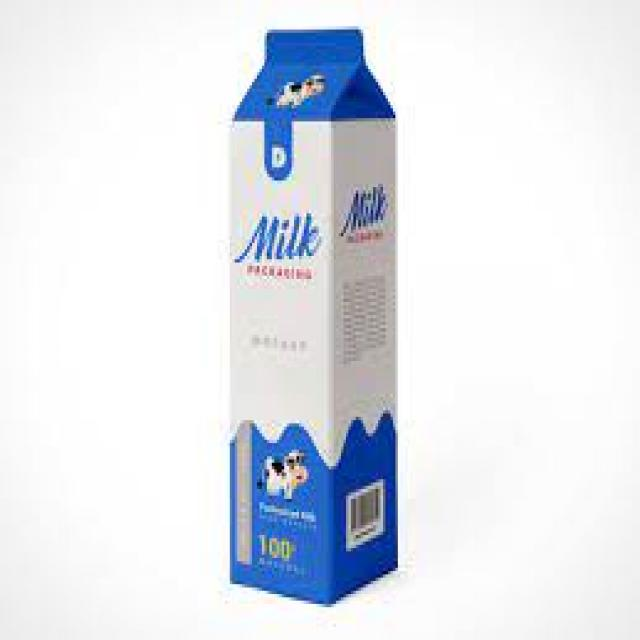non_white_jug: (212, 8, 412, 619)
